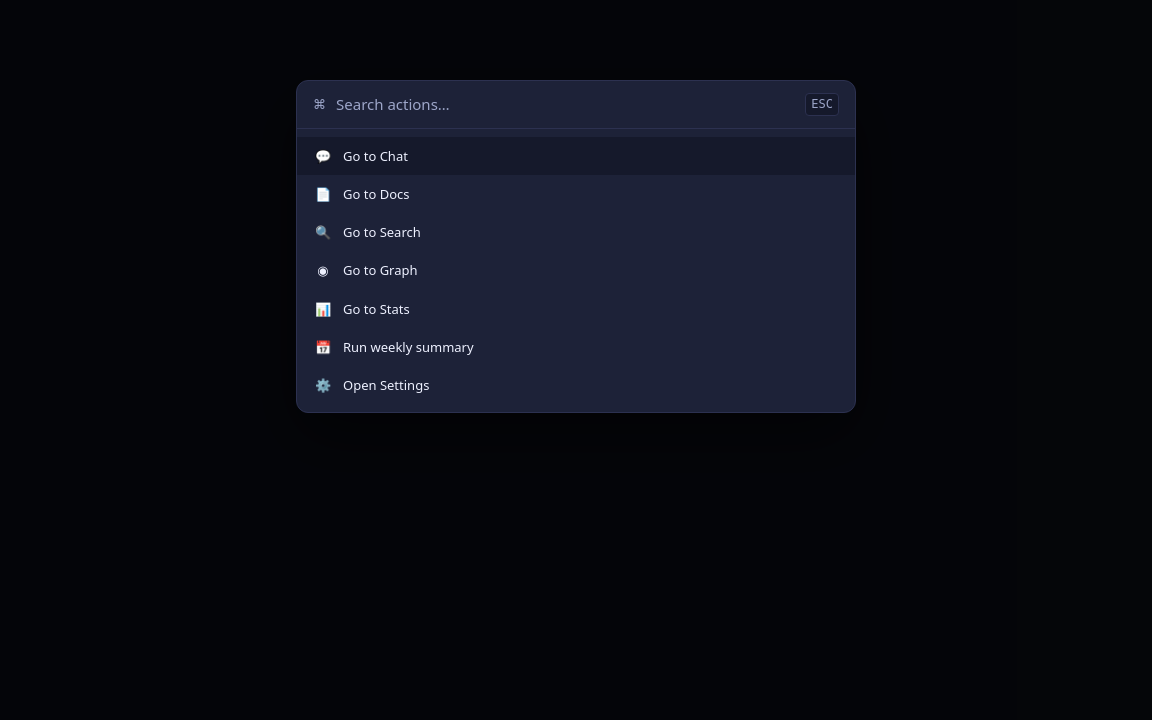
CommandPalette › filters actions by query — "weekly" shows Run weekly summary
The image size is (1152, 720).
Type "weekly" into the field at (566, 104), box [336,94,795,114]
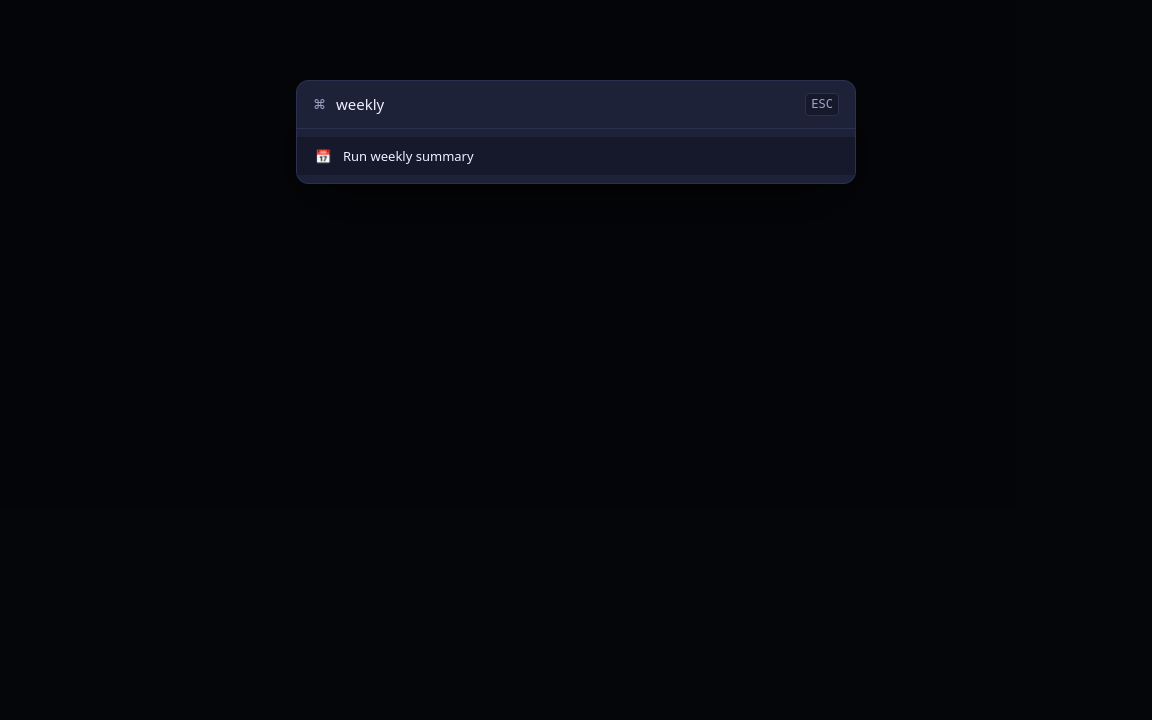
Expected: the text "Run weekly summary" is shown, [343,147,474,165]
Expected: the option "Go to Chat" is gone
